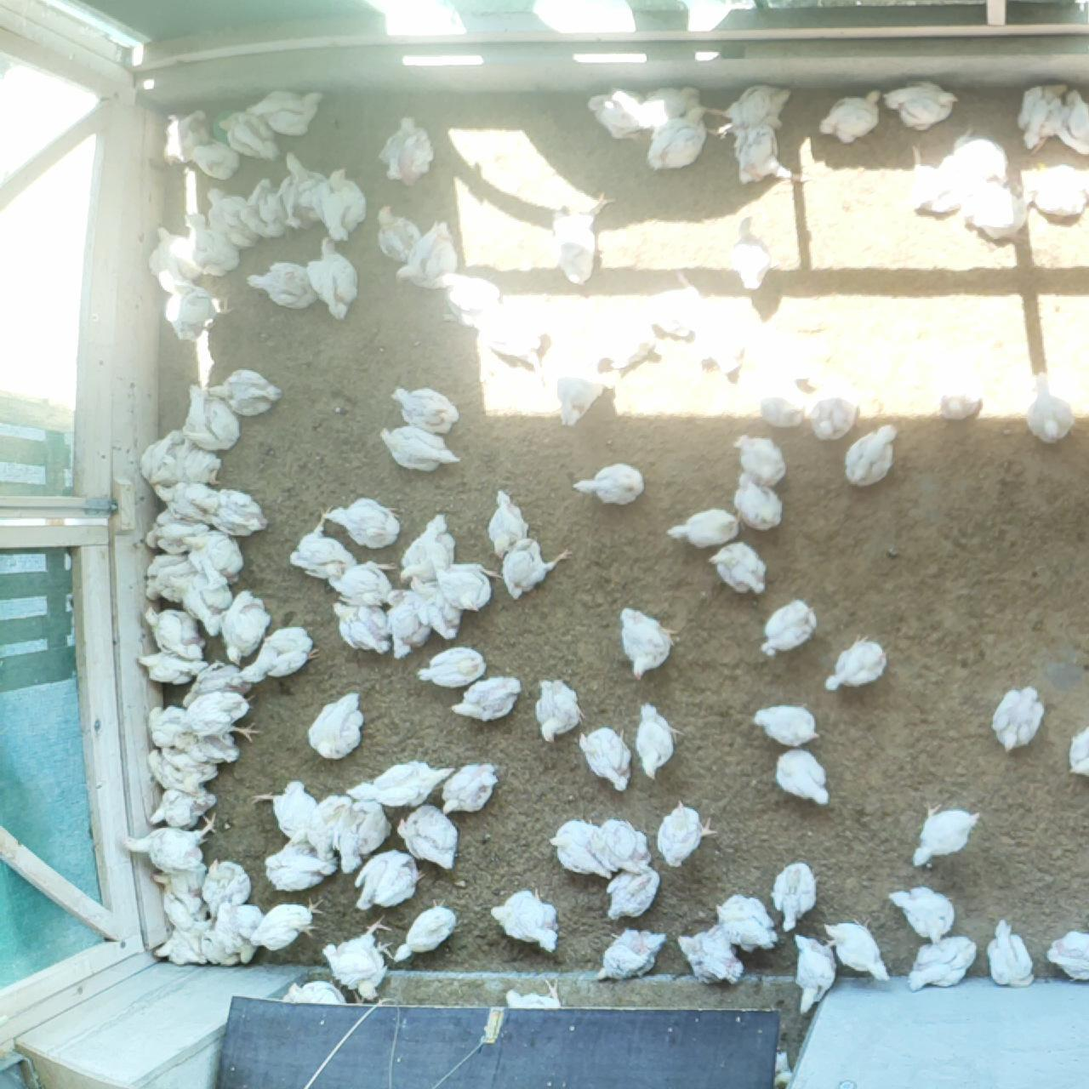chicken: (320, 913, 405, 1006), (118, 808, 223, 873), (153, 267, 237, 344), (553, 190, 619, 285), (730, 115, 812, 191), (481, 884, 568, 953), (760, 314, 840, 388), (902, 795, 985, 866), (958, 177, 1041, 248), (477, 302, 549, 382), (615, 600, 684, 683), (490, 531, 574, 599), (643, 100, 717, 176), (344, 754, 453, 805), (301, 232, 362, 322), (695, 293, 760, 375), (649, 797, 720, 871), (1008, 71, 1072, 153), (391, 893, 460, 969), (247, 623, 323, 692), (1017, 367, 1080, 450), (549, 350, 615, 429), (317, 492, 402, 553), (287, 500, 357, 574), (178, 380, 245, 457), (306, 687, 372, 764), (392, 802, 461, 875), (885, 70, 965, 132), (335, 793, 395, 875), (246, 768, 320, 834), (981, 910, 1041, 991), (349, 848, 426, 911), (904, 933, 983, 994), (253, 893, 327, 958), (724, 207, 778, 296), (819, 630, 895, 693), (822, 917, 896, 981), (199, 184, 267, 253), (244, 259, 322, 319), (248, 80, 330, 137), (901, 142, 964, 216), (708, 81, 794, 135), (191, 479, 271, 537), (988, 679, 1052, 751), (674, 925, 747, 988), (583, 811, 651, 878), (388, 383, 465, 442), (215, 587, 271, 668), (586, 307, 659, 369), (574, 721, 635, 795), (541, 810, 608, 877), (373, 110, 431, 187), (595, 927, 669, 987), (787, 930, 839, 1015), (396, 214, 458, 285), (316, 159, 367, 245), (399, 508, 459, 581), (637, 273, 700, 342), (842, 421, 902, 493), (634, 695, 683, 783), (278, 148, 331, 227), (533, 668, 587, 745), (815, 85, 885, 144), (1019, 161, 1089, 220), (209, 365, 285, 419), (712, 888, 777, 951), (926, 368, 992, 430), (747, 695, 827, 746), (664, 502, 745, 552), (769, 745, 834, 807), (757, 594, 822, 656), (769, 858, 820, 937), (884, 882, 951, 942), (195, 690, 265, 747), (948, 124, 1013, 185), (431, 559, 503, 614), (570, 457, 647, 508), (321, 553, 401, 602), (180, 207, 238, 274), (451, 671, 524, 724), (438, 759, 503, 818), (704, 539, 770, 597), (601, 856, 659, 922), (238, 175, 289, 250), (261, 835, 332, 888), (141, 603, 207, 660), (429, 265, 499, 318), (405, 569, 458, 639), (328, 599, 391, 656), (730, 431, 794, 487), (179, 659, 250, 709), (303, 790, 350, 865), (183, 527, 249, 580), (416, 640, 489, 687), (588, 85, 649, 141), (731, 469, 785, 532), (161, 101, 214, 165), (489, 485, 533, 562), (217, 895, 264, 967), (137, 549, 198, 604), (144, 917, 213, 965), (217, 113, 277, 167), (383, 585, 428, 657), (145, 785, 219, 828), (201, 855, 253, 916), (143, 746, 218, 788), (148, 864, 209, 912), (151, 448, 224, 488), (372, 198, 422, 256), (151, 479, 218, 522), (498, 972, 567, 1012), (643, 78, 703, 122), (277, 977, 368, 1006), (141, 516, 210, 554), (148, 218, 193, 274), (1045, 926, 1089, 982), (1055, 87, 1089, 158), (138, 647, 209, 681), (174, 730, 242, 765), (187, 574, 227, 629), (188, 140, 240, 180), (138, 430, 181, 477), (145, 704, 190, 745), (196, 926, 241, 966), (1064, 719, 1089, 779)
